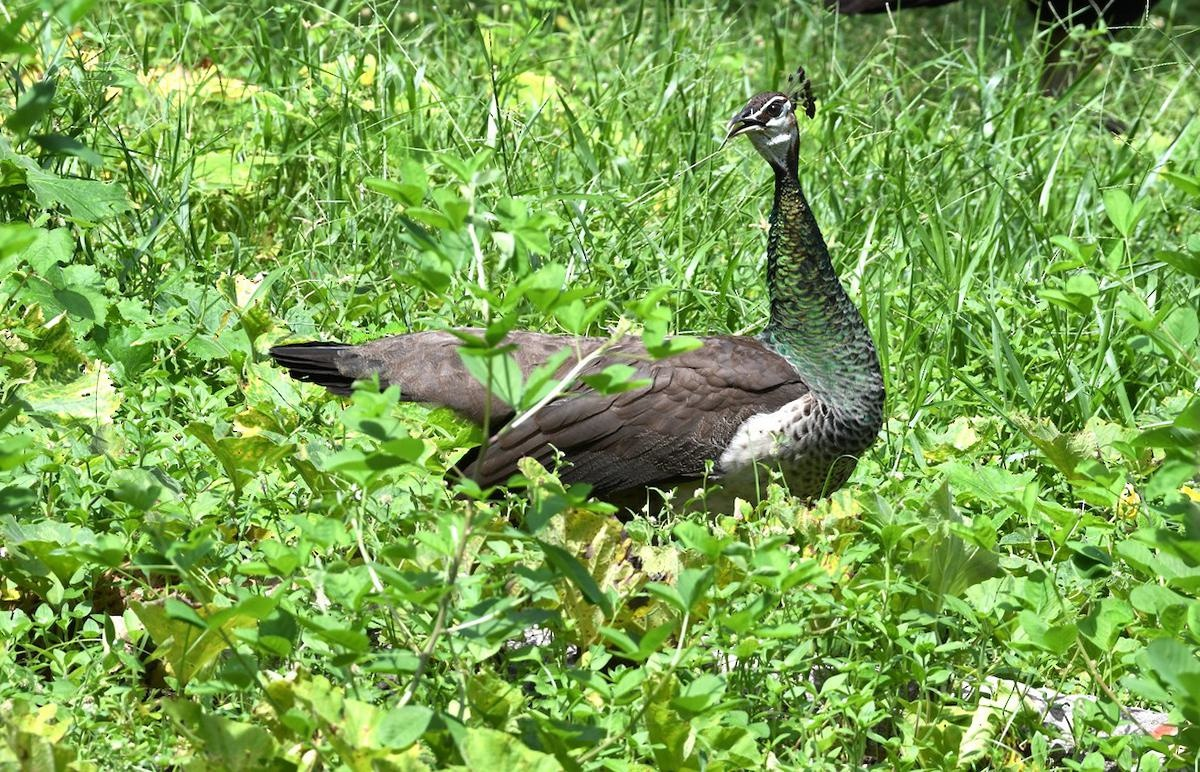peacock: (357, 53, 886, 532)
